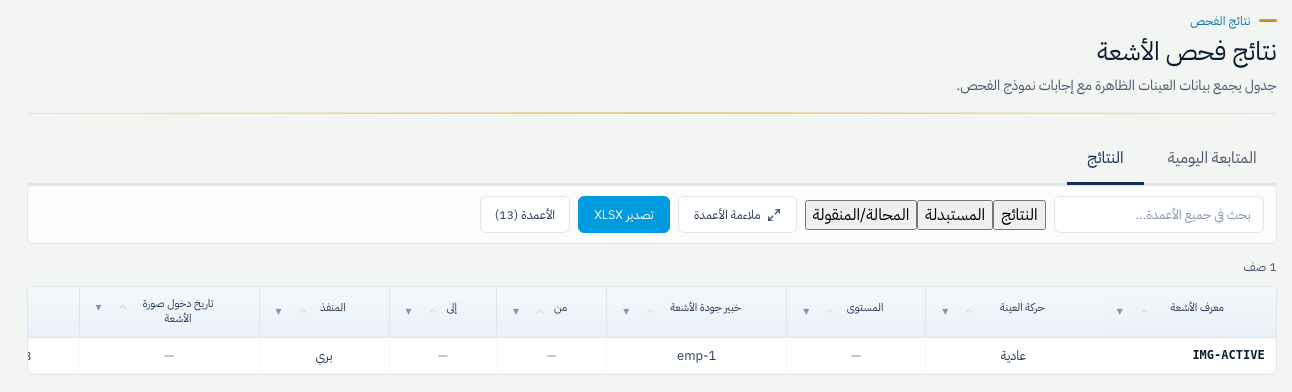
Test: XrayInspectionResults view-mode toggle (no refetch regression) › does not re-read the workspace folder when switching between النتائج / المستبدلة / المحالة
Check: the text "IMG-ACTIVE" is shown, box x1=1192 y1=348 x2=1265 y2=362
Click the button "المستبدلة" at {"x": 955, "y": 215}, box x1=917 y1=200 x2=993 y2=230
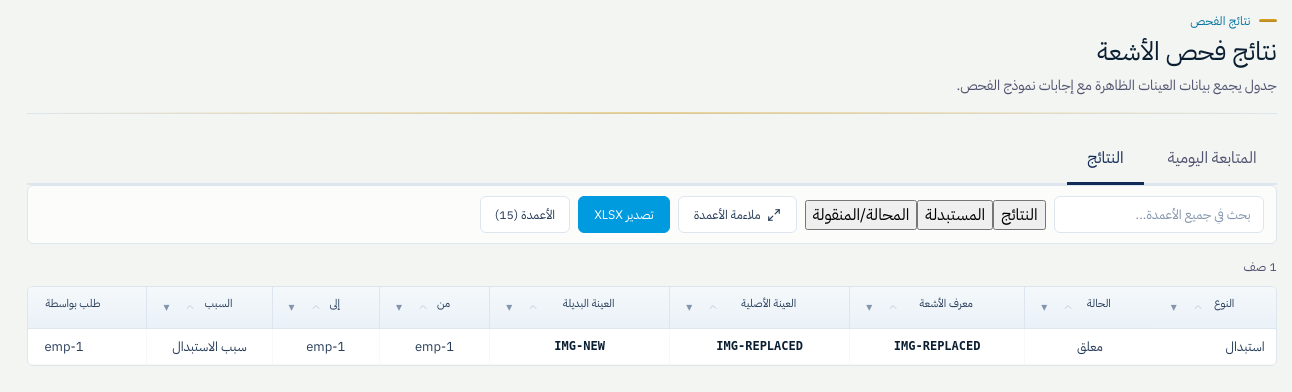
Check: the 2nd text "IMG-REPLACED" is shown, box x1=894 y1=339 x2=980 y2=353
Click the button "المحالة/المنقولة" at {"x": 861, "y": 215}, box x1=805 y1=200 x2=917 y2=230
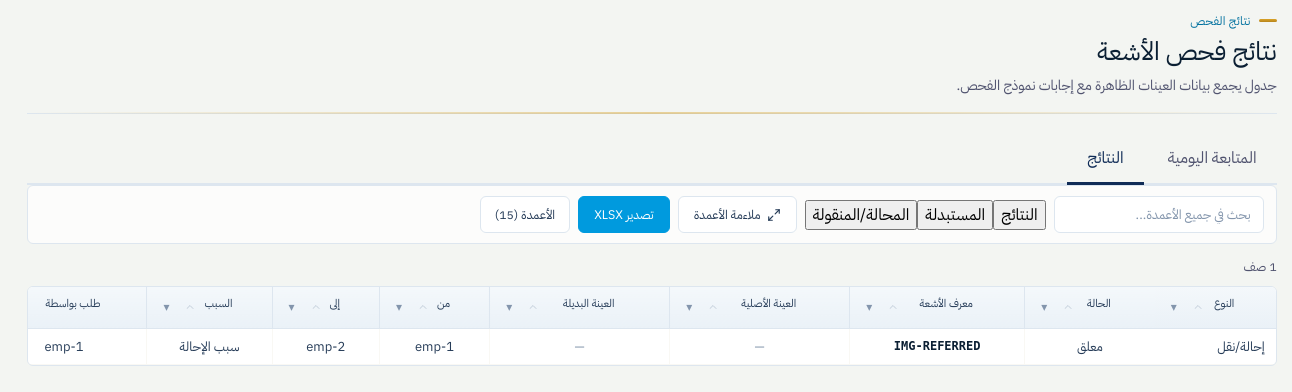
Check: the text "IMG-REFERRED" is shown, box x1=894 y1=339 x2=980 y2=353
Click the button "النتائج" at {"x": 1019, "y": 215}, box x1=993 y1=200 x2=1046 y2=230
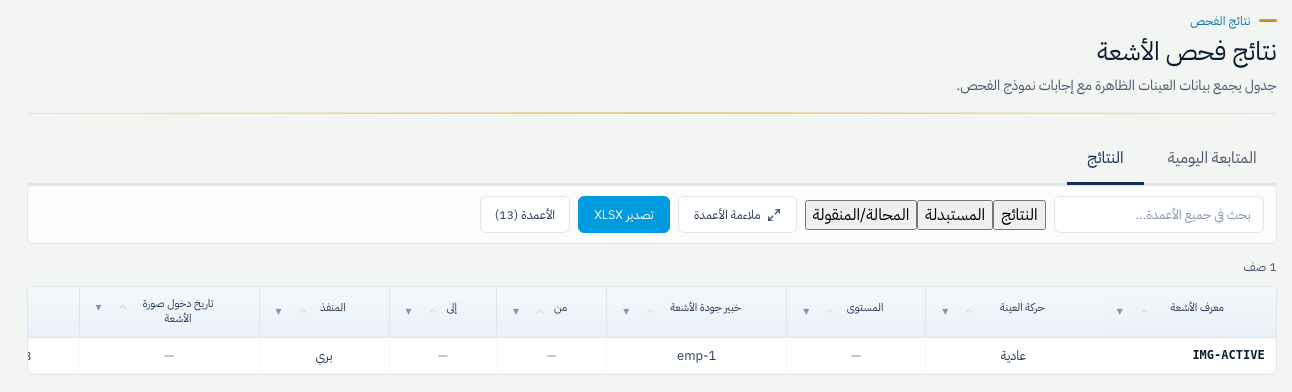
Check: the text "IMG-ACTIVE" is shown, box x1=1192 y1=348 x2=1265 y2=362
